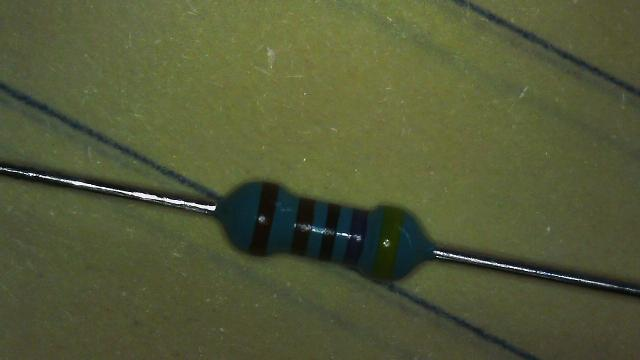black: (318, 204, 340, 261)
brown: (249, 182, 278, 255), (290, 198, 316, 255)
resistor: (212, 160, 437, 294)
violet: (344, 209, 367, 267)
yellow: (371, 206, 404, 280)
